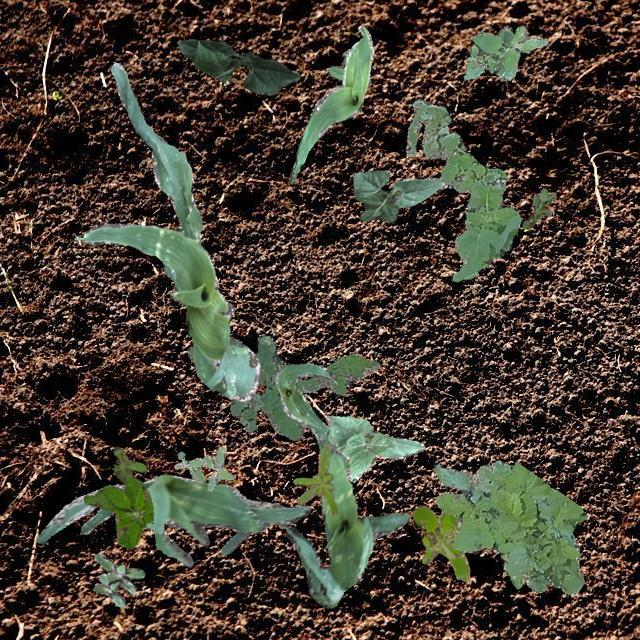crop: (74, 62, 258, 400), (36, 474, 310, 566), (282, 424, 408, 606), (288, 24, 372, 182), (176, 38, 300, 94), (324, 414, 424, 480), (273, 362, 341, 453), (352, 170, 444, 222)
weed: (404, 97, 520, 280), (434, 458, 586, 594), (186, 334, 378, 439), (82, 446, 152, 548), (462, 24, 546, 80), (412, 504, 468, 580), (292, 444, 336, 514), (92, 552, 144, 606), (173, 446, 234, 490), (522, 186, 556, 228), (327, 48, 349, 82)
